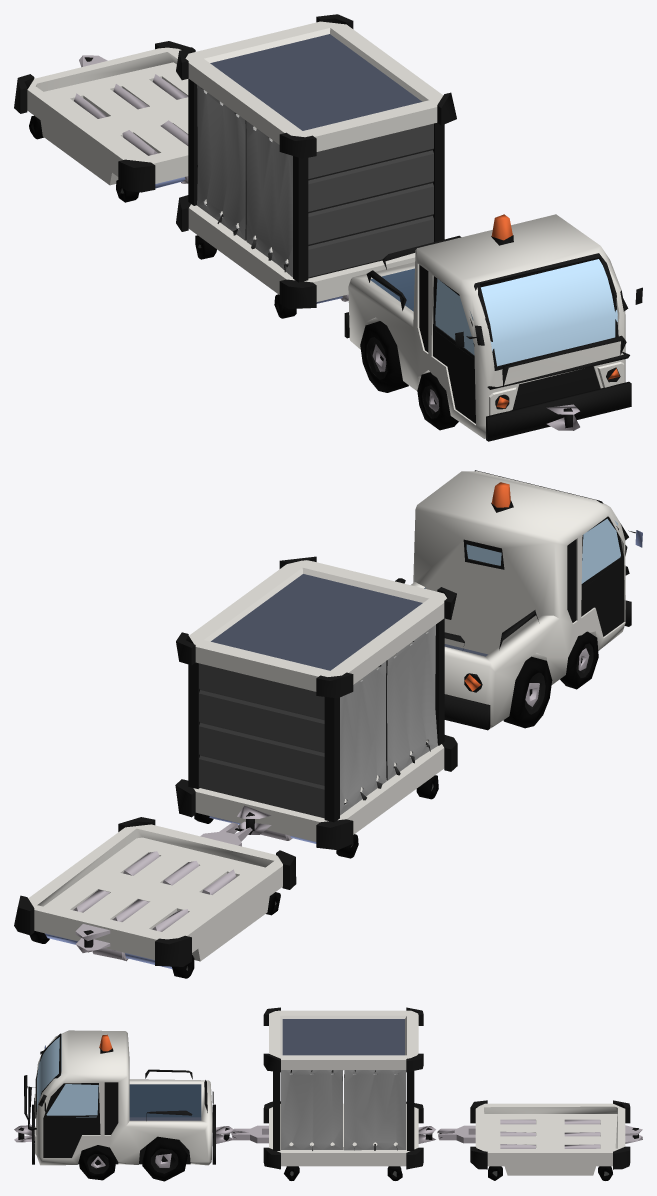
Rendered from train_bagages_pack-D4fycgph.glb.
3 renders of one model, top to bottom at view 1: azimuth 30°, elevation 25°; view 2: azimuth 150°, elevation 25°; view 3: azimuth 270°, elevation 25°, orthographic. The views are drawn at different scales.
Visible parts, largest first — view 1: 21.1.BaggageTruck_Cube.246; view 2: 21.1.BaggageTruck_Cube.246; view 3: 21.1.BaggageTruck_Cube.246.
Boxes of the visible parts, x1=… form: 21.1.BaggageTruck_Cube.246: x1=14, y1=14, x2=642, y2=441; 21.1.BaggageTruck_Cube.246: x1=14, y1=470, x2=642, y2=978; 21.1.BaggageTruck_Cube.246: x1=14, y1=1007, x2=642, y2=1181.
Bounding box in the file's own units: 4.78 × 4.66 × 21.61.
Materials: 1 (1 with a texture image).
